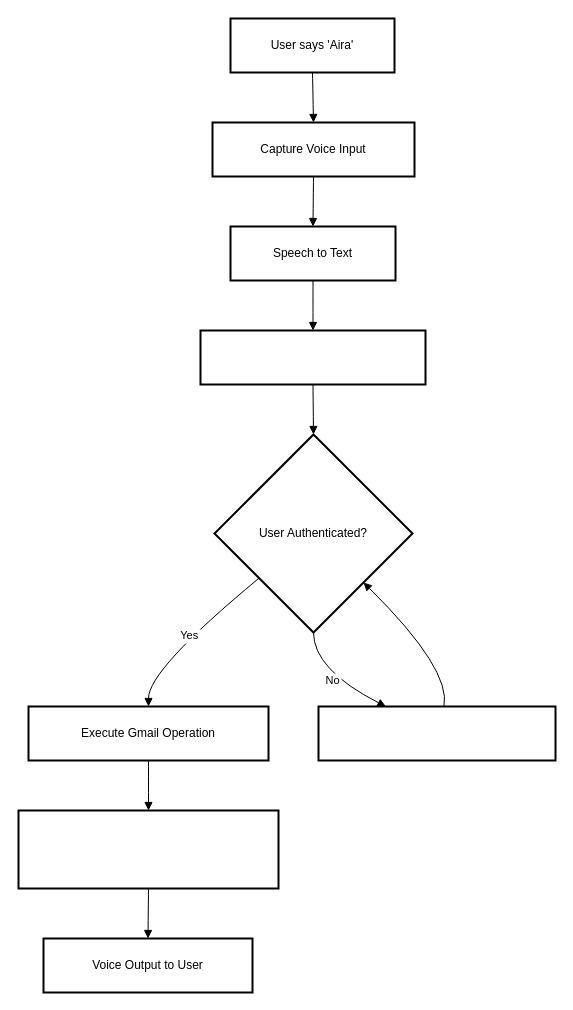
The diagram is 573 pixels wide and 1010 high, and some of its shapes have lost their labels. Here are the shapes that lost their labels. From the top down, the centre of each, then its label:
the point at 312,357: NLU Intent Recognition
the point at 436,733: Login + Face Verification
the point at 148,849: Convert Response to Speech
